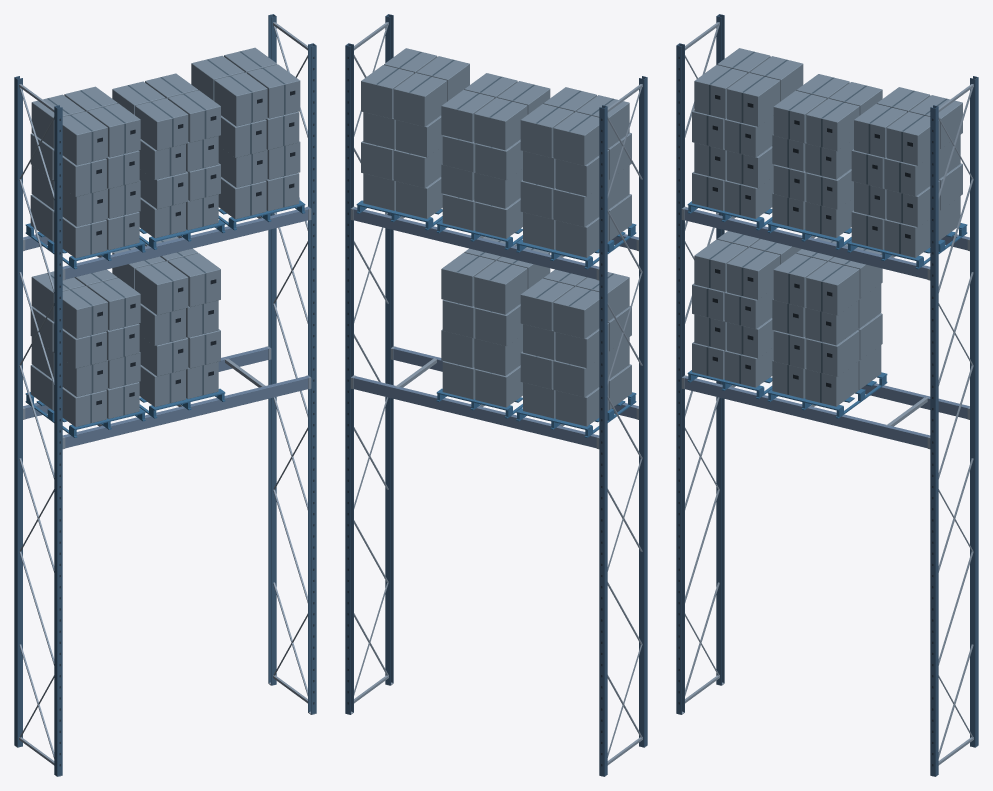
File: SM_GHS_V2Rack_D1_W37138_Occ70.fbx
The picture shows the model from 3 angles, left to right: view 1: azimuth 30°, elevation 25°; view 2: azimuth 150°, elevation 25°; view 3: azimuth 330°, elevation 25°; orthographic projection.
Parts seen in each view (by area): view 1: SM_GHS_V2Rack_D1_W37138_Occ70; view 2: SM_GHS_V2Rack_D1_W37138_Occ70; view 3: SM_GHS_V2Rack_D1_W37138_Occ70.
Boxes of the visible parts, <box> form: SM_GHS_V2Rack_D1_W37138_Occ70: <box>14,14,316,776</box>; SM_GHS_V2Rack_D1_W37138_Occ70: <box>345,14,647,776</box>; SM_GHS_V2Rack_D1_W37138_Occ70: <box>676,14,978,776</box>.
Bounding box in the file's own units: 371 × 122 × 915.
